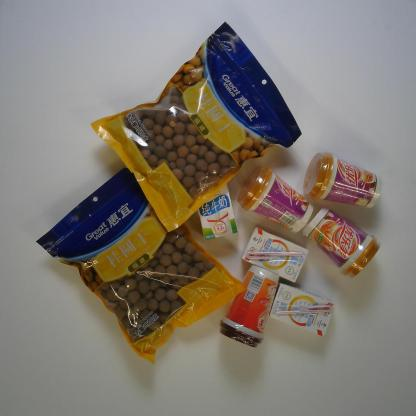Dried Food: (88, 20, 304, 234), (34, 167, 250, 367)
Instant Drink: (300, 205, 382, 279), (236, 162, 315, 234), (219, 264, 280, 348), (302, 151, 384, 209)
Milk: (241, 226, 309, 284), (269, 282, 336, 338), (197, 180, 239, 241)
